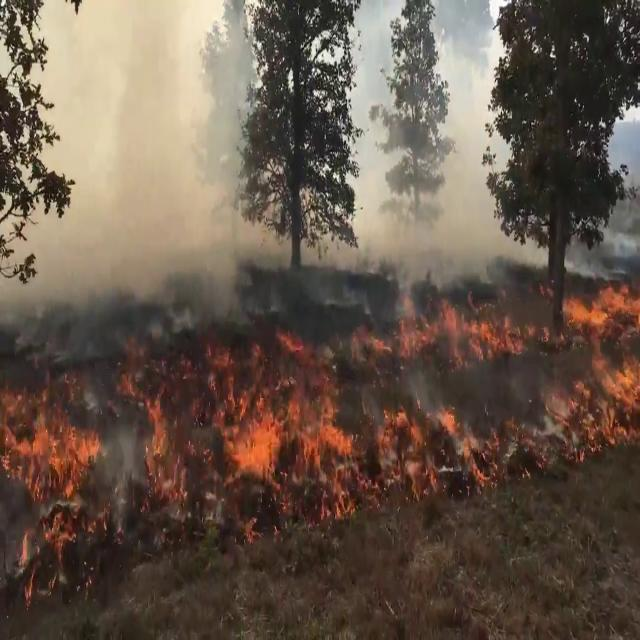Fire: (197, 330, 361, 520), (362, 382, 514, 500), (0, 365, 108, 516), (366, 270, 526, 367), (554, 342, 640, 447), (559, 279, 640, 332)
Smoke: (1, 4, 522, 290), (2, 0, 286, 318)
